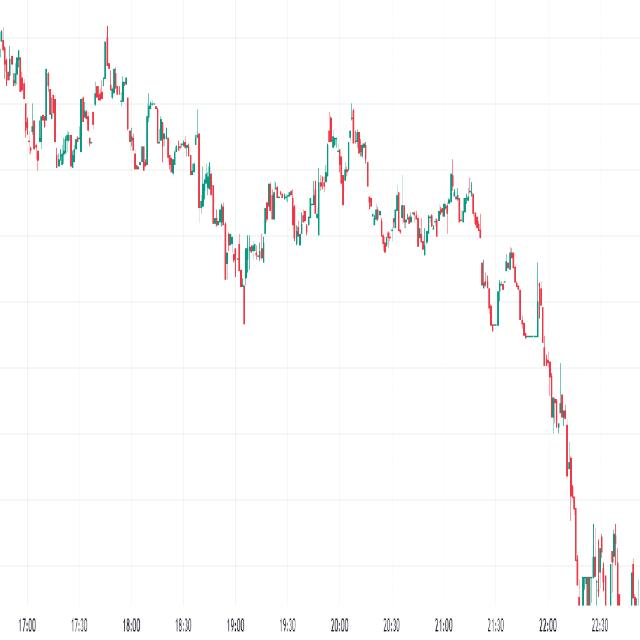Descending-Triangle: (88, 10, 231, 191)
Double-Top: (316, 100, 372, 216)
